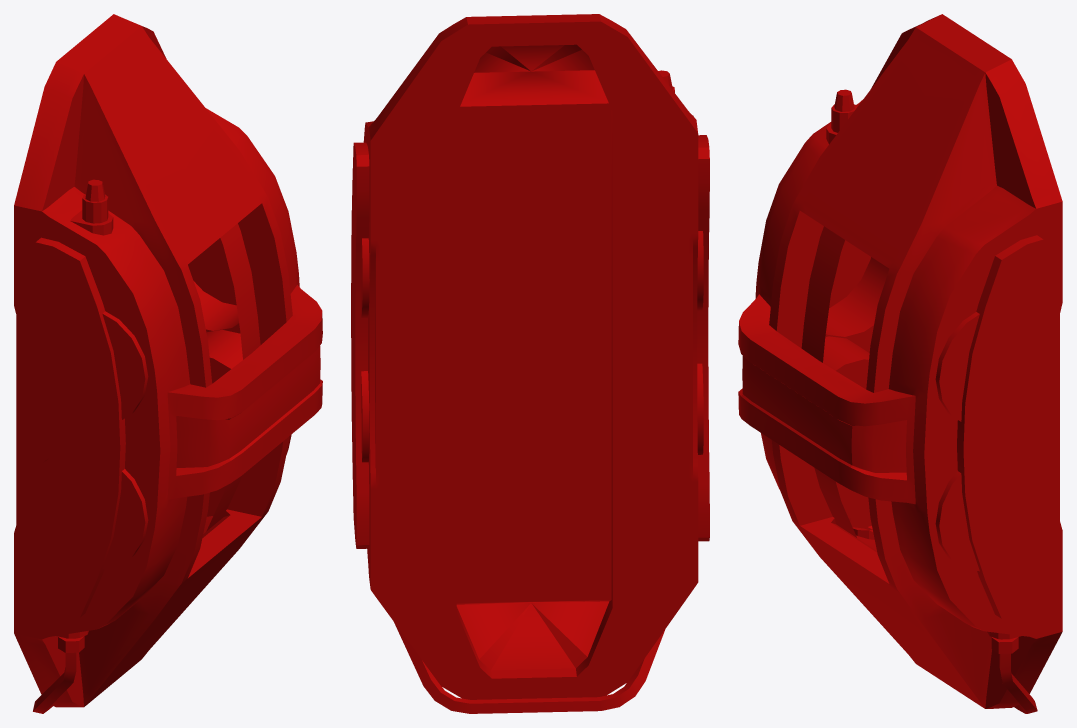
File: wheel3_red_0.glb
3 views of the same model, side by side, from view 1: azimuth 30°, elevation 25°; view 2: azimuth 150°, elevation 25°; view 3: azimuth 270°, elevation 25° (orthographic). The views are drawn at different scales.
Visible parts, largest first — view 1: wheel3_red_0; view 2: wheel3_red_0; view 3: wheel3_red_0.
Boxes of the visible parts, x1,y1,x2,y2 form: wheel3_red_0: (14,14,322,713); wheel3_red_0: (351,14,709,713); wheel3_red_0: (738,14,1062,713).
Size of the model in its own units: 0.1964 by 0.4008 by 0.1803.
